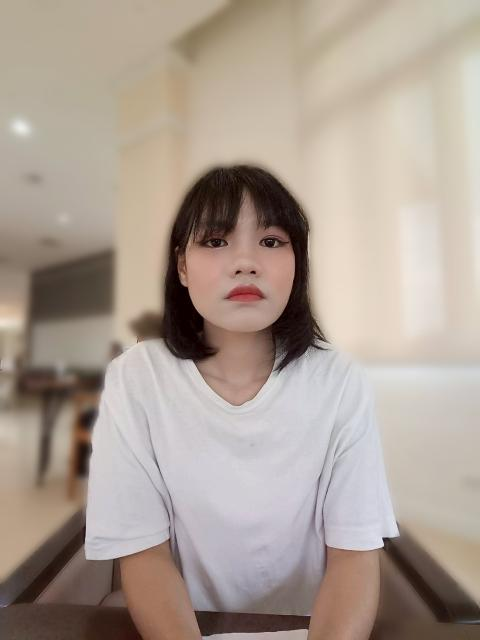fokus: (173, 190, 306, 335)
